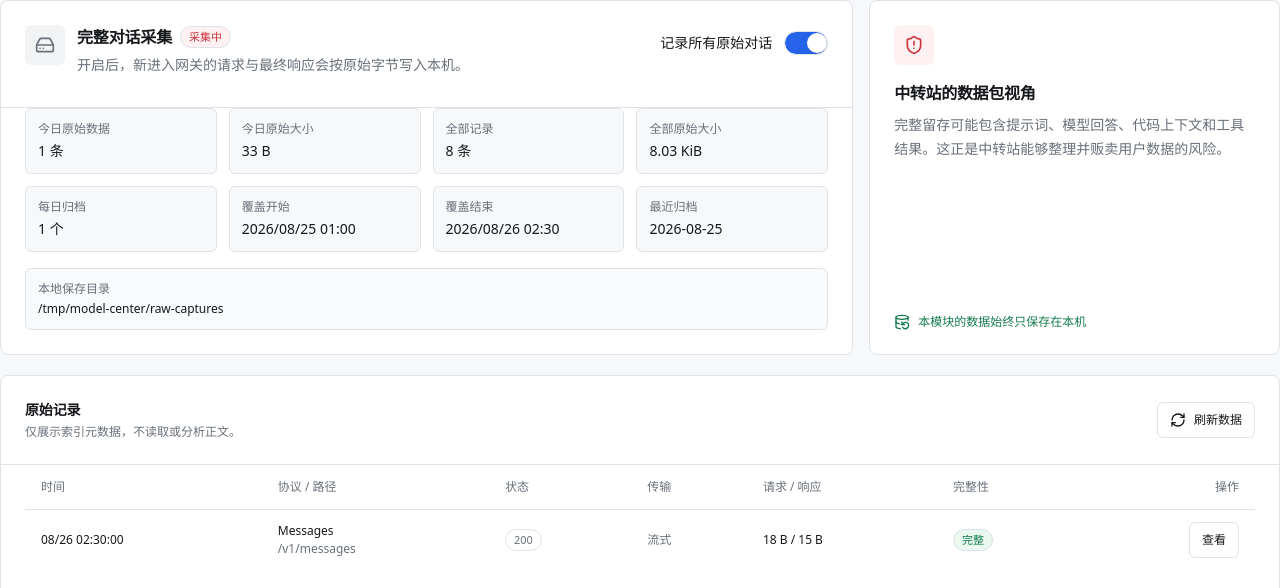
Test case: RawDataClient › releases the mutation guard after a real failure and keeps the error visible
Click the switch named "记录所有原始对话": (806, 43) 784,31 -> 828,55
(page scrolled)
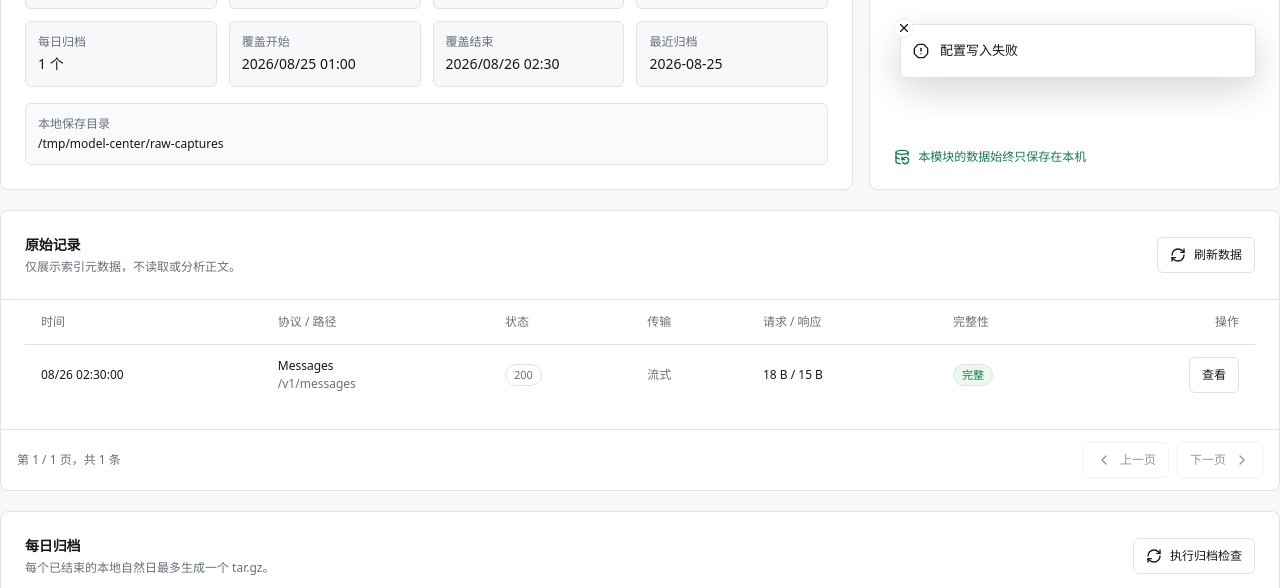
Click the button "执行归档检查": (1194, 556) 1133,538 -> 1255,574
(page scrolled)
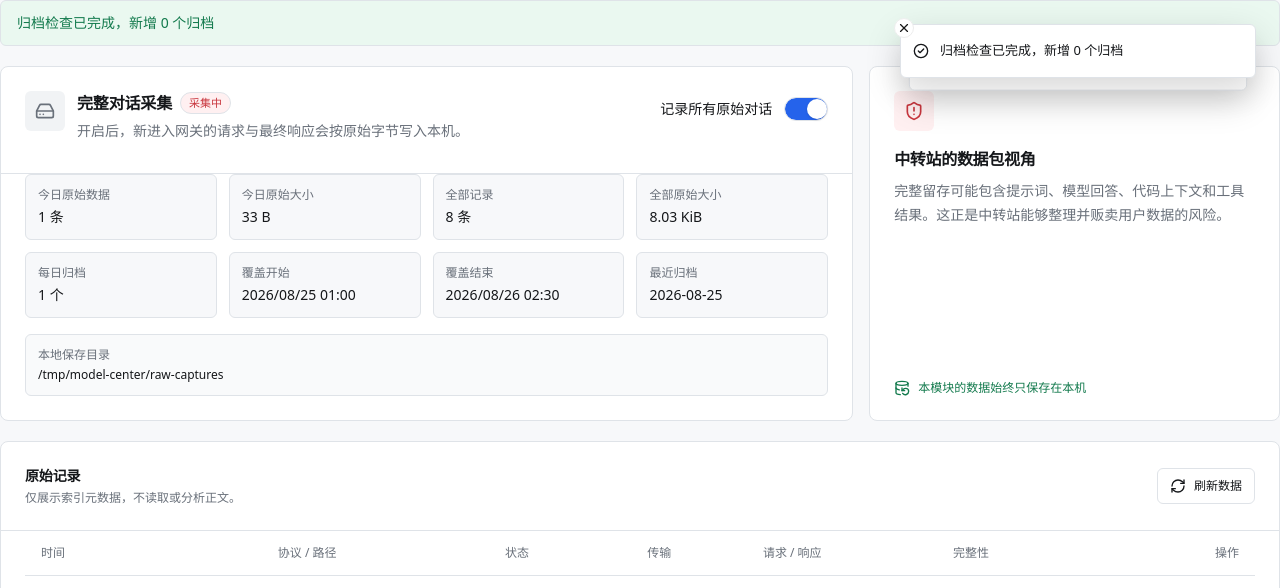
Check: the message shows "归档检查已完成", box 17,13 -> 214,32
